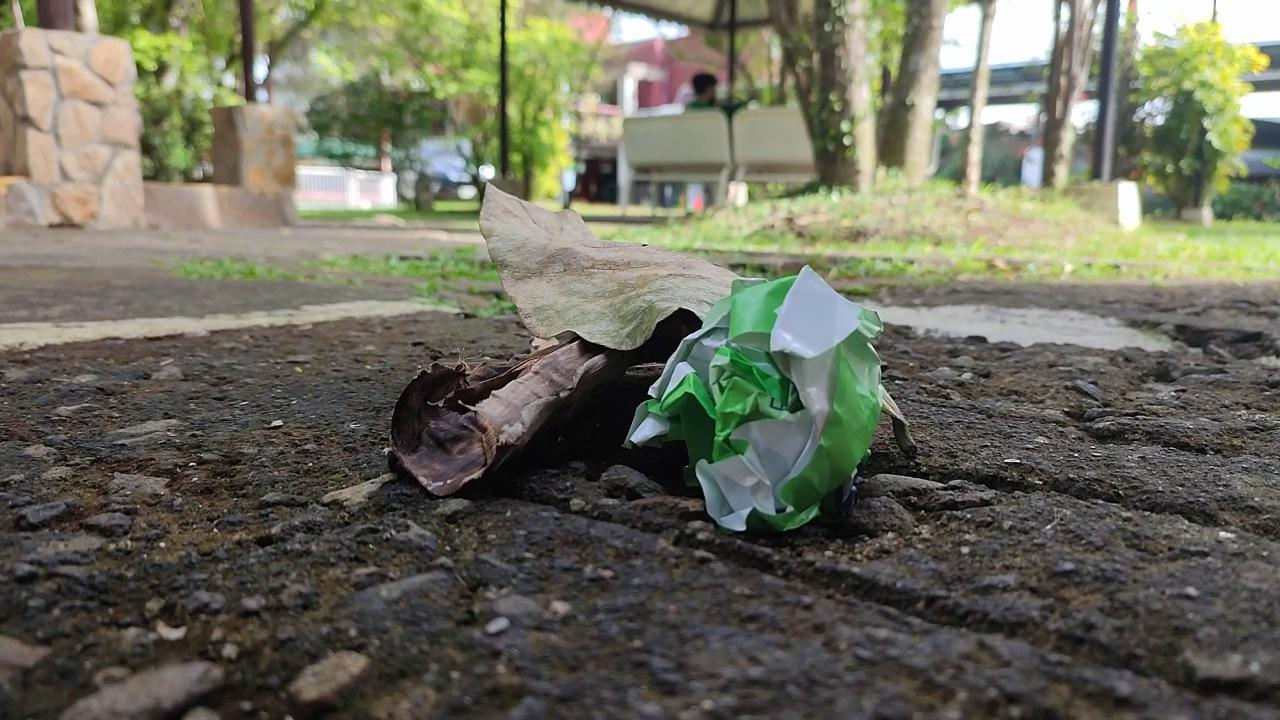Paper: (621, 250, 902, 546)
